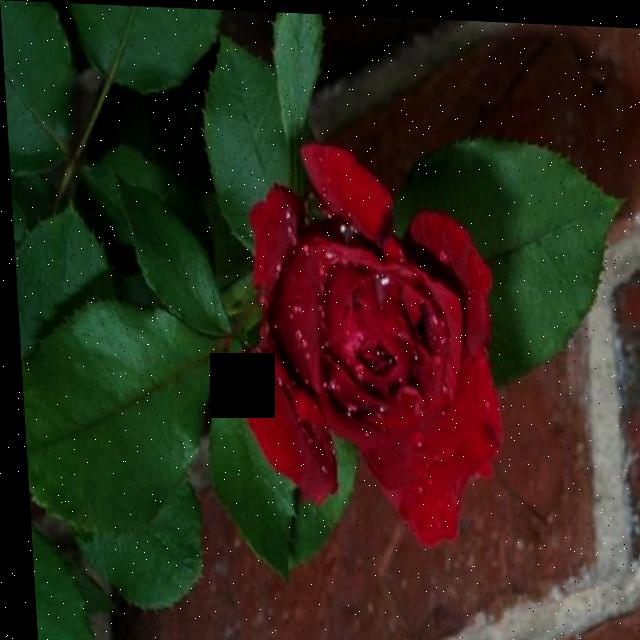rose: (216, 143, 552, 576)
